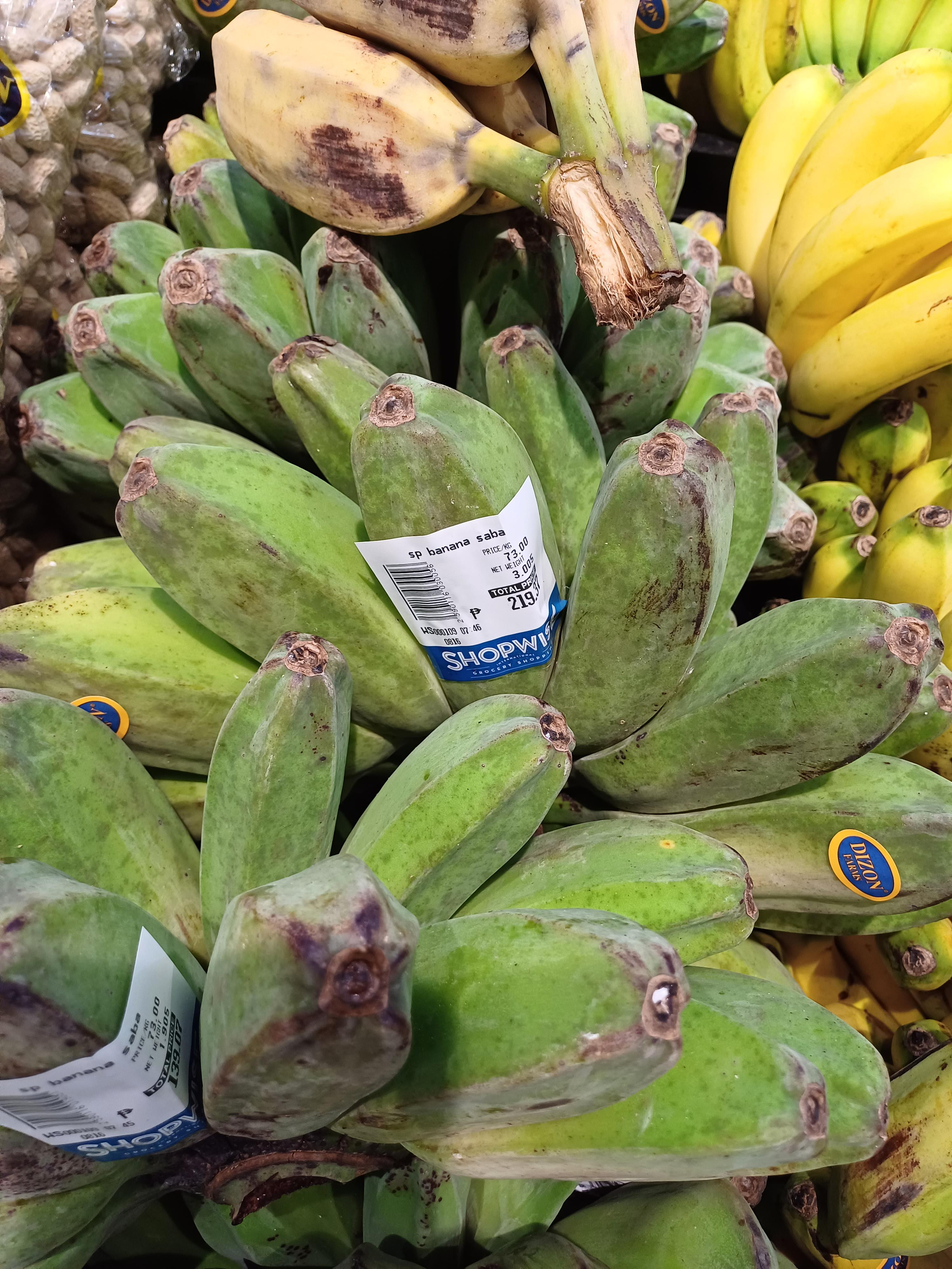ripe: (209, 0, 646, 235)
underripe: (0, 327, 952, 930), (0, 634, 889, 1269), (20, 158, 431, 499)
